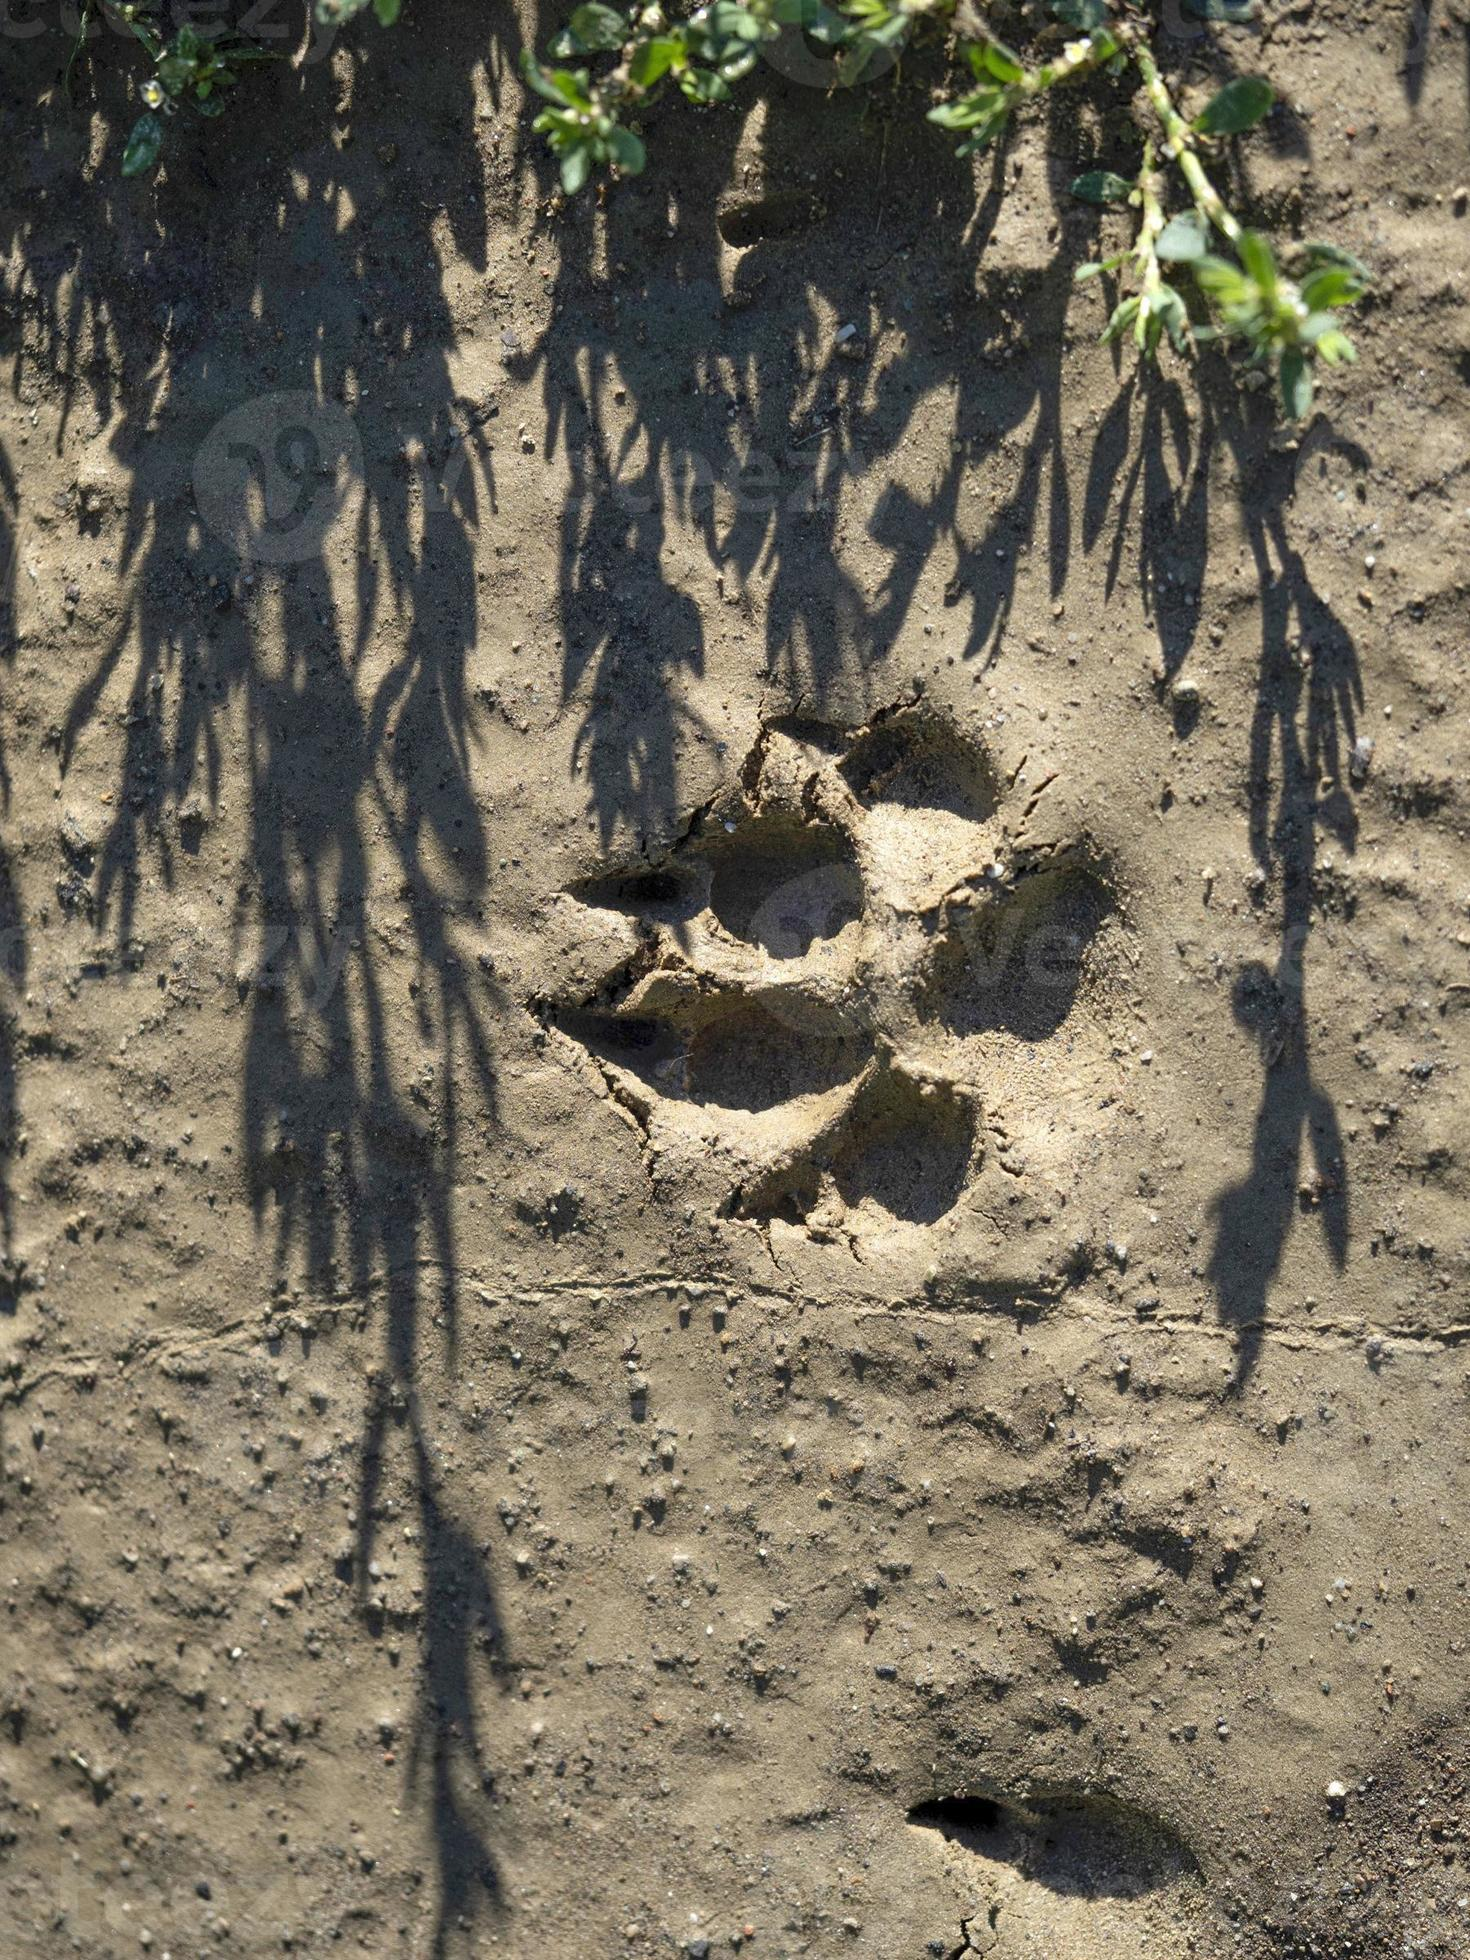coyote: (508, 722, 1160, 1249)
